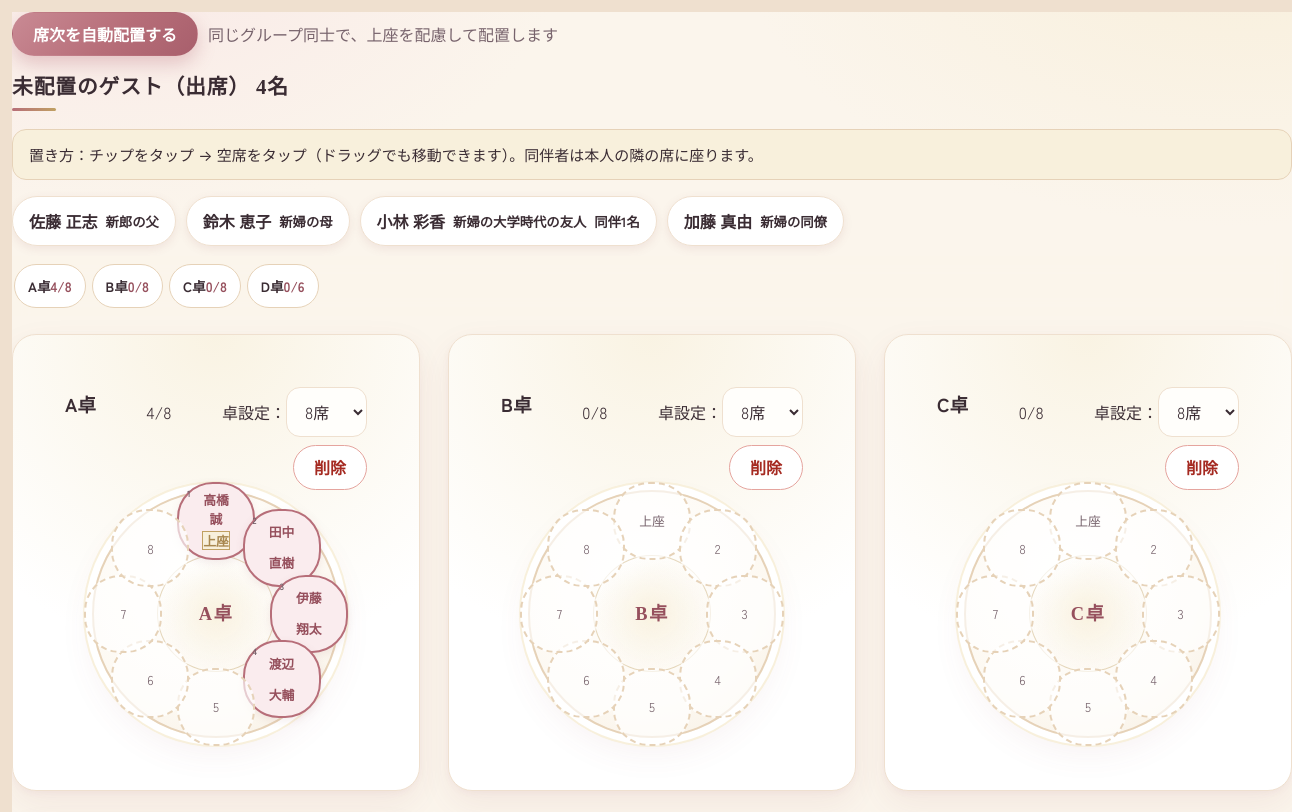
SeatingEditor UX › 自動配置の用語が「自動配置」に統一されている
The width and height of the screenshot is (1292, 812).
Click the button "席次を自動配置する" at (105, 34), box [12,12,198,56]
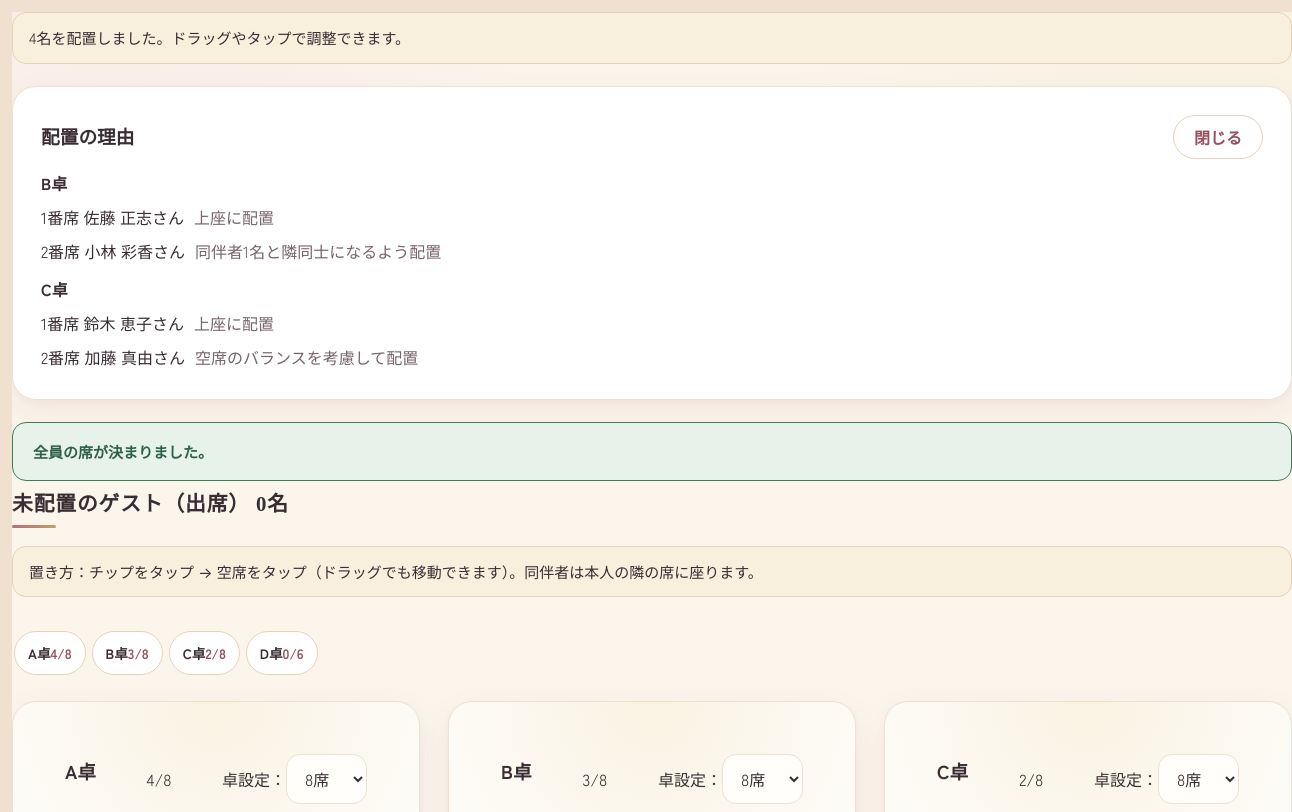
Result: the text "4名を配置しました。ドラッグやタップで調整できます。" is shown at [12,12,1291,64]
